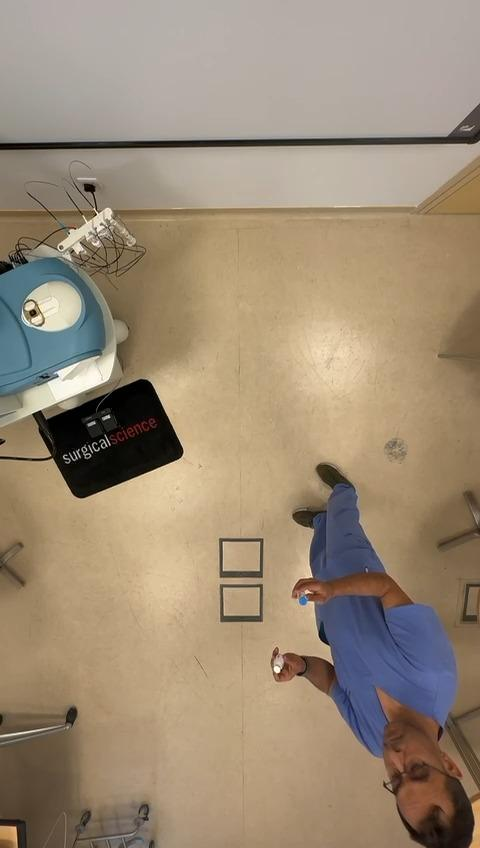augmentin: (273, 654, 285, 674)
cefazolin: (298, 595, 308, 606)
